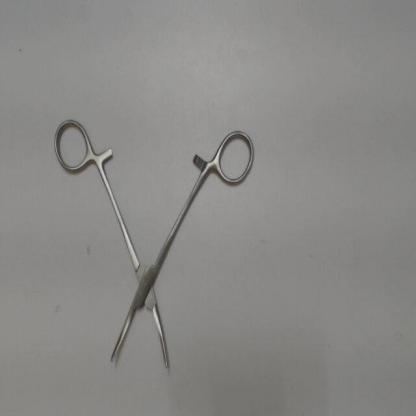Crile Artery Forceps: (40, 113, 259, 375)
